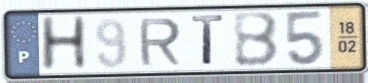5: (283, 9, 325, 68)
9: (93, 16, 130, 70)
B: (231, 10, 281, 69)
H: (37, 14, 90, 75)
R: (136, 16, 184, 67)
T: (189, 13, 226, 68)
